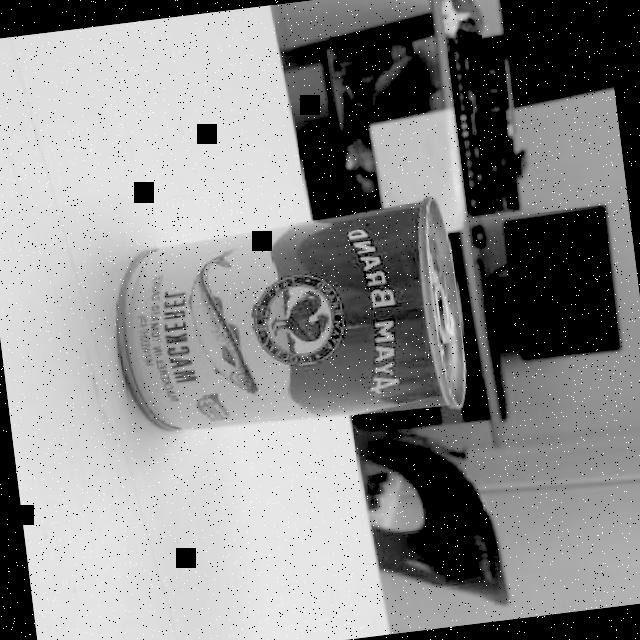can: (103, 191, 472, 445)
